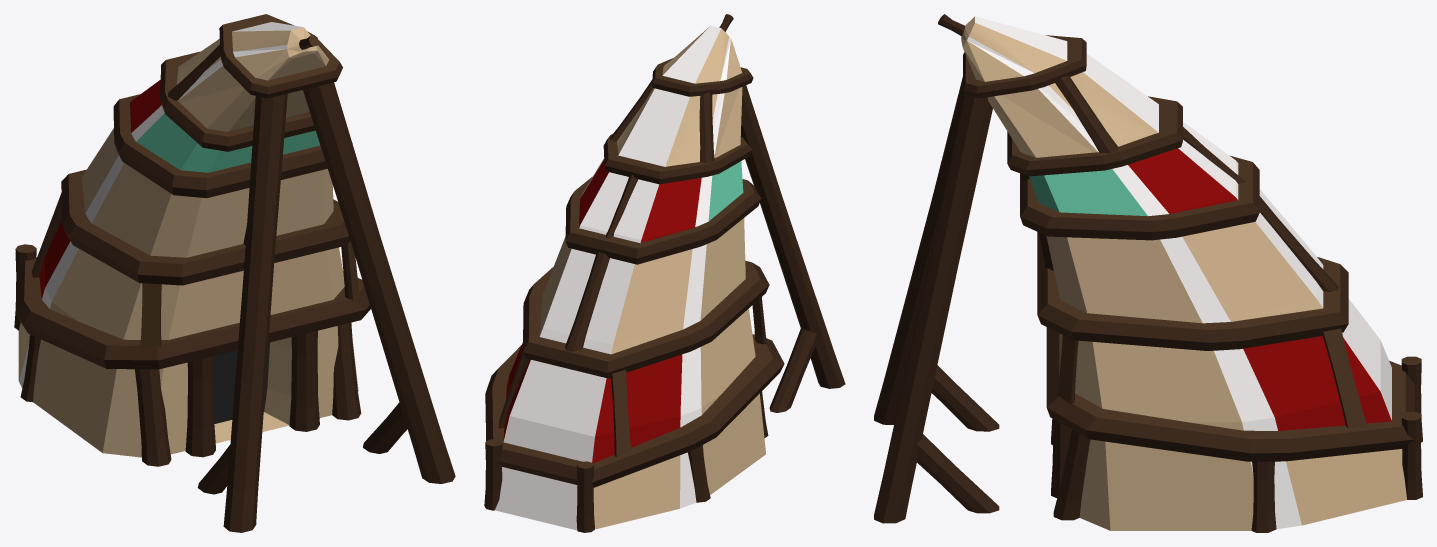
File: Tribal_Plains_Tent_Leaning_Hide_Wood_Timber_Large_01.fbx
The picture shows the model from 3 angles, left to right: view 1: azimuth 30°, elevation 25°; view 2: azimuth 150°, elevation 25°; view 3: azimuth 270°, elevation 25°; orthographic projection. The views are drawn at different scales.
Parts seen in each view (by area): view 1: Tribal_Plains_Tent_Leaning_Hide_Wood_Timber_Large_01; view 2: Tribal_Plains_Tent_Leaning_Hide_Wood_Timber_Large_01; view 3: Tribal_Plains_Tent_Leaning_Hide_Wood_Timber_Large_01.
Part boxes in pixels (x1,y1,x2,y2): Tribal_Plains_Tent_Leaning_Hide_Wood_Timber_Large_01: (14, 14, 455, 532); Tribal_Plains_Tent_Leaning_Hide_Wood_Timber_Large_01: (484, 14, 845, 532); Tribal_Plains_Tent_Leaning_Hide_Wood_Timber_Large_01: (874, 14, 1422, 532).
Size of the model in its own units: 7.55 by 11.61 by 12.76.
